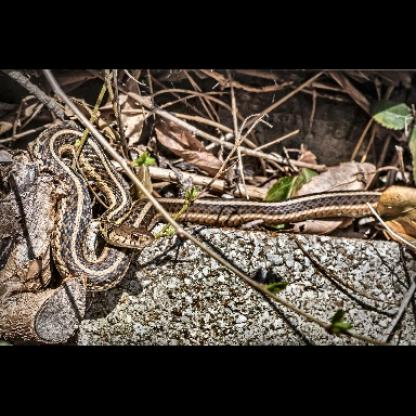Snake: (27, 116, 270, 299)
